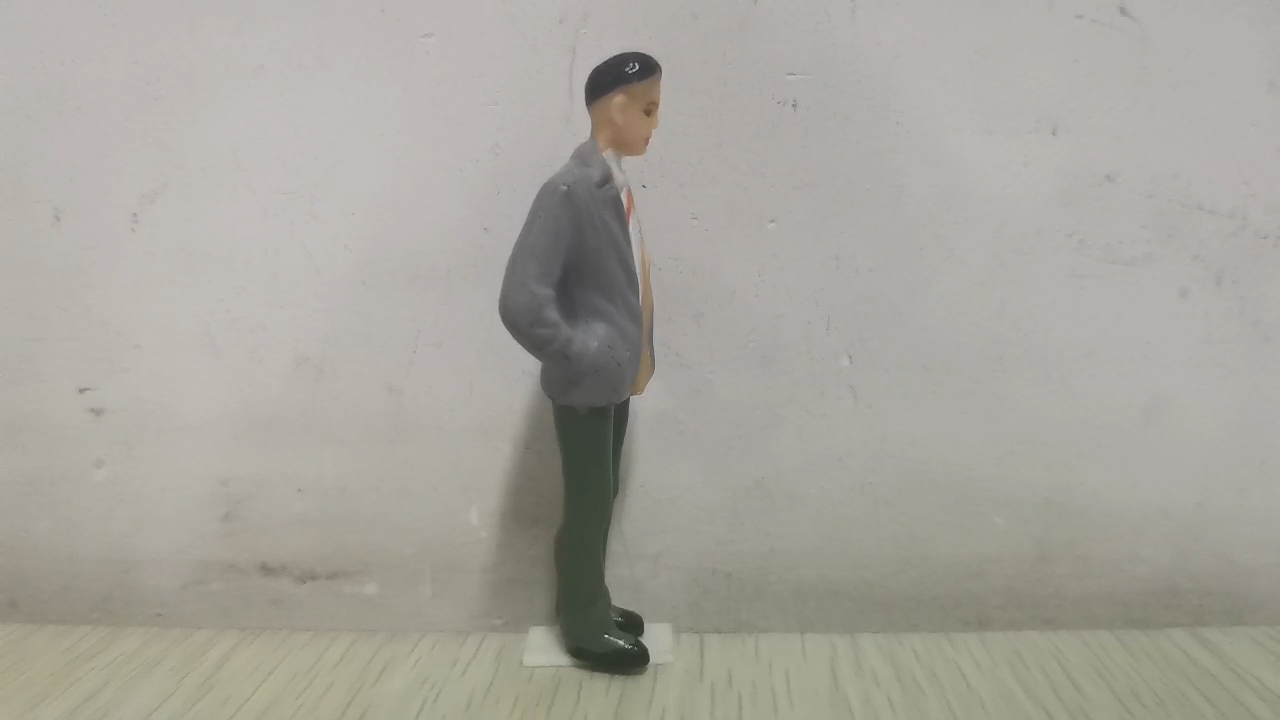person: (495, 48, 663, 669)
